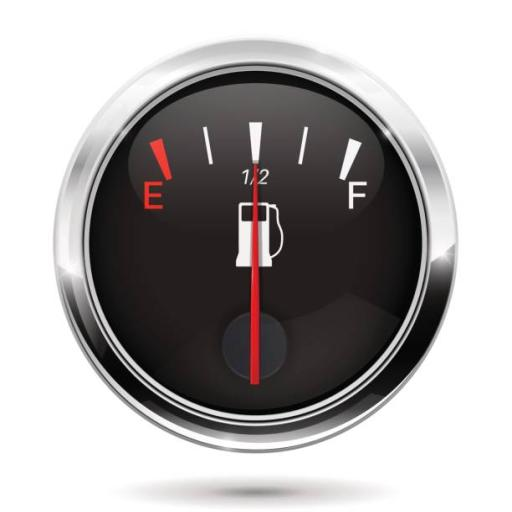empty: (136, 176, 166, 214)
full: (346, 179, 370, 213)
guage_area: (42, 21, 482, 459)
needle_center: (219, 303, 293, 389)
needle_tip: (246, 160, 267, 190)
